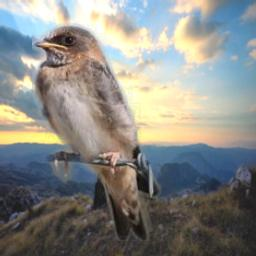Swallow: (32, 22, 162, 241)
